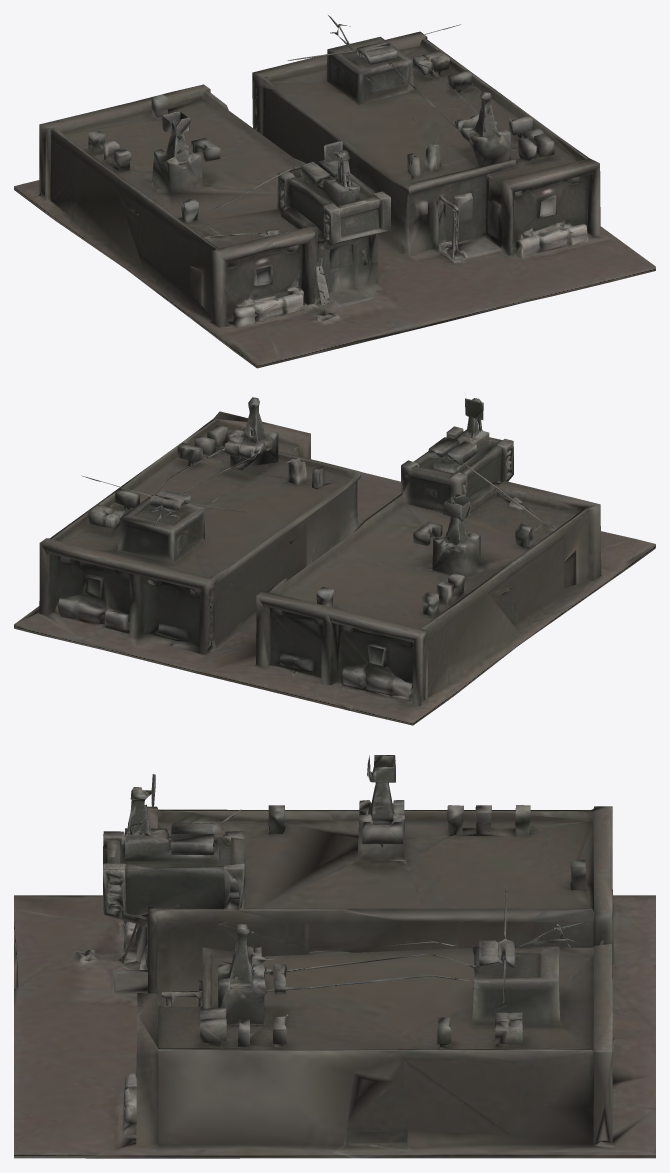
The model's file is p_forward_base.glb.
The picture shows the model from 3 angles, top to bottom: view 1: azimuth 30°, elevation 25°; view 2: azimuth 150°, elevation 25°; view 3: azimuth 270°, elevation 25°; orthographic projection. The views are drawn at different scales.
Bounding box in the file's own units: 1.8 × 0.6683 × 1.9.
Materials: 1 (1 with a texture image).
